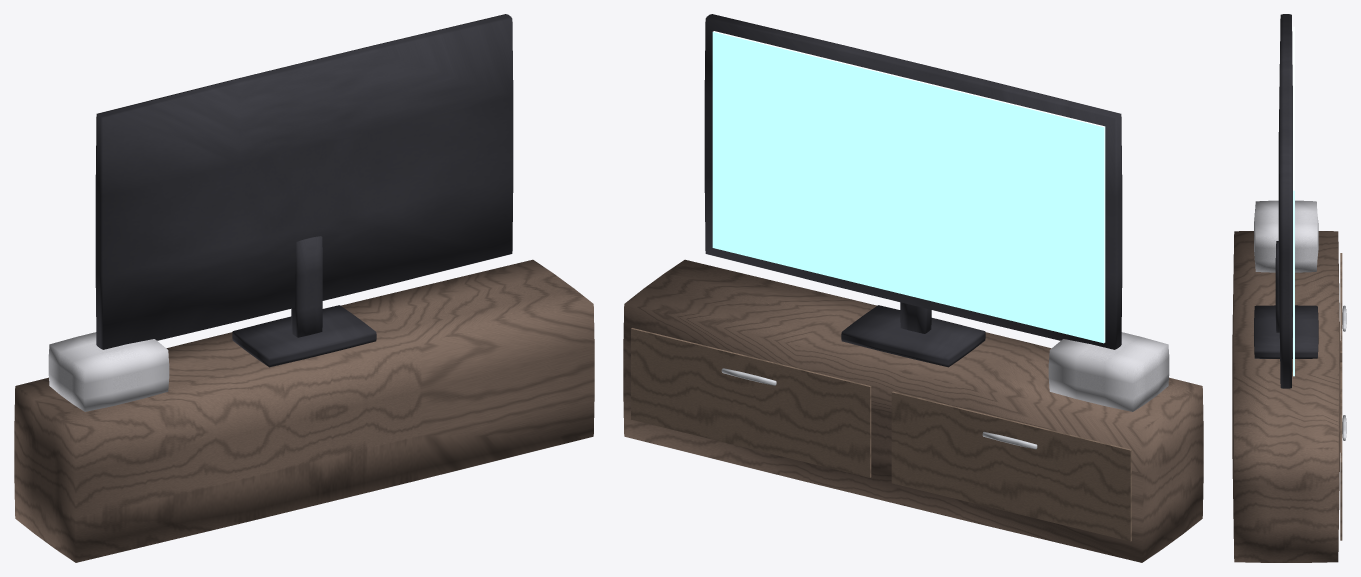
File: tv_unit.glb
The picture shows the model from 3 angles, left to right: view 1: azimuth 30°, elevation 25°; view 2: azimuth 150°, elevation 25°; view 3: azimuth 270°, elevation 25°; orthographic projection. The views are drawn at different scales.
Visible parts, largest first — view 1: tv_unit_body; view 2: tv_unit_body, Screen; view 3: tv_unit_body, Screen.
Boxes of the visible parts, x1,y1,x2,y2 form: tv_unit_body: (14, 14, 594, 562); tv_unit_body: (623, 14, 1203, 562); Screen: (712, 31, 1105, 343); tv_unit_body: (1232, 14, 1346, 562); Screen: (1293, 26, 1294, 376).
Size of the model in its own units: 2.4 by 1.83 by 0.5299.
6 materials, 5 textured.
